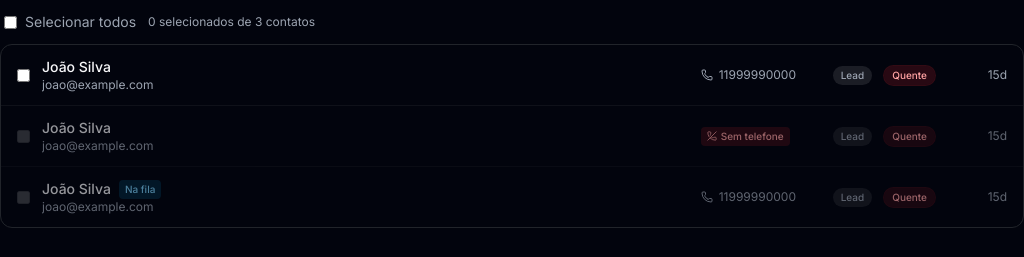
FilteredContactsList › select all selects only contacts with phone and not in queue
Click the text "Selecionar todos": (70, 22) [4, 12, 136, 32]
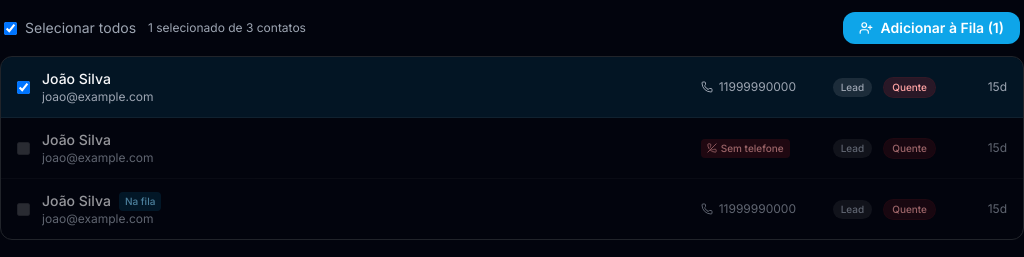
Result: the text "1 selecionado de 3 contatos" is shown at [148, 20, 306, 36]
